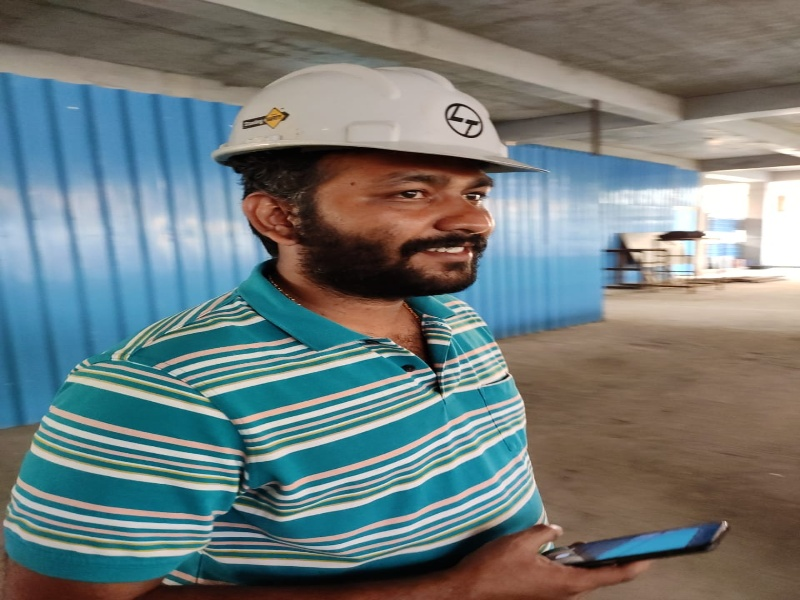Face: (216, 54, 555, 186)
